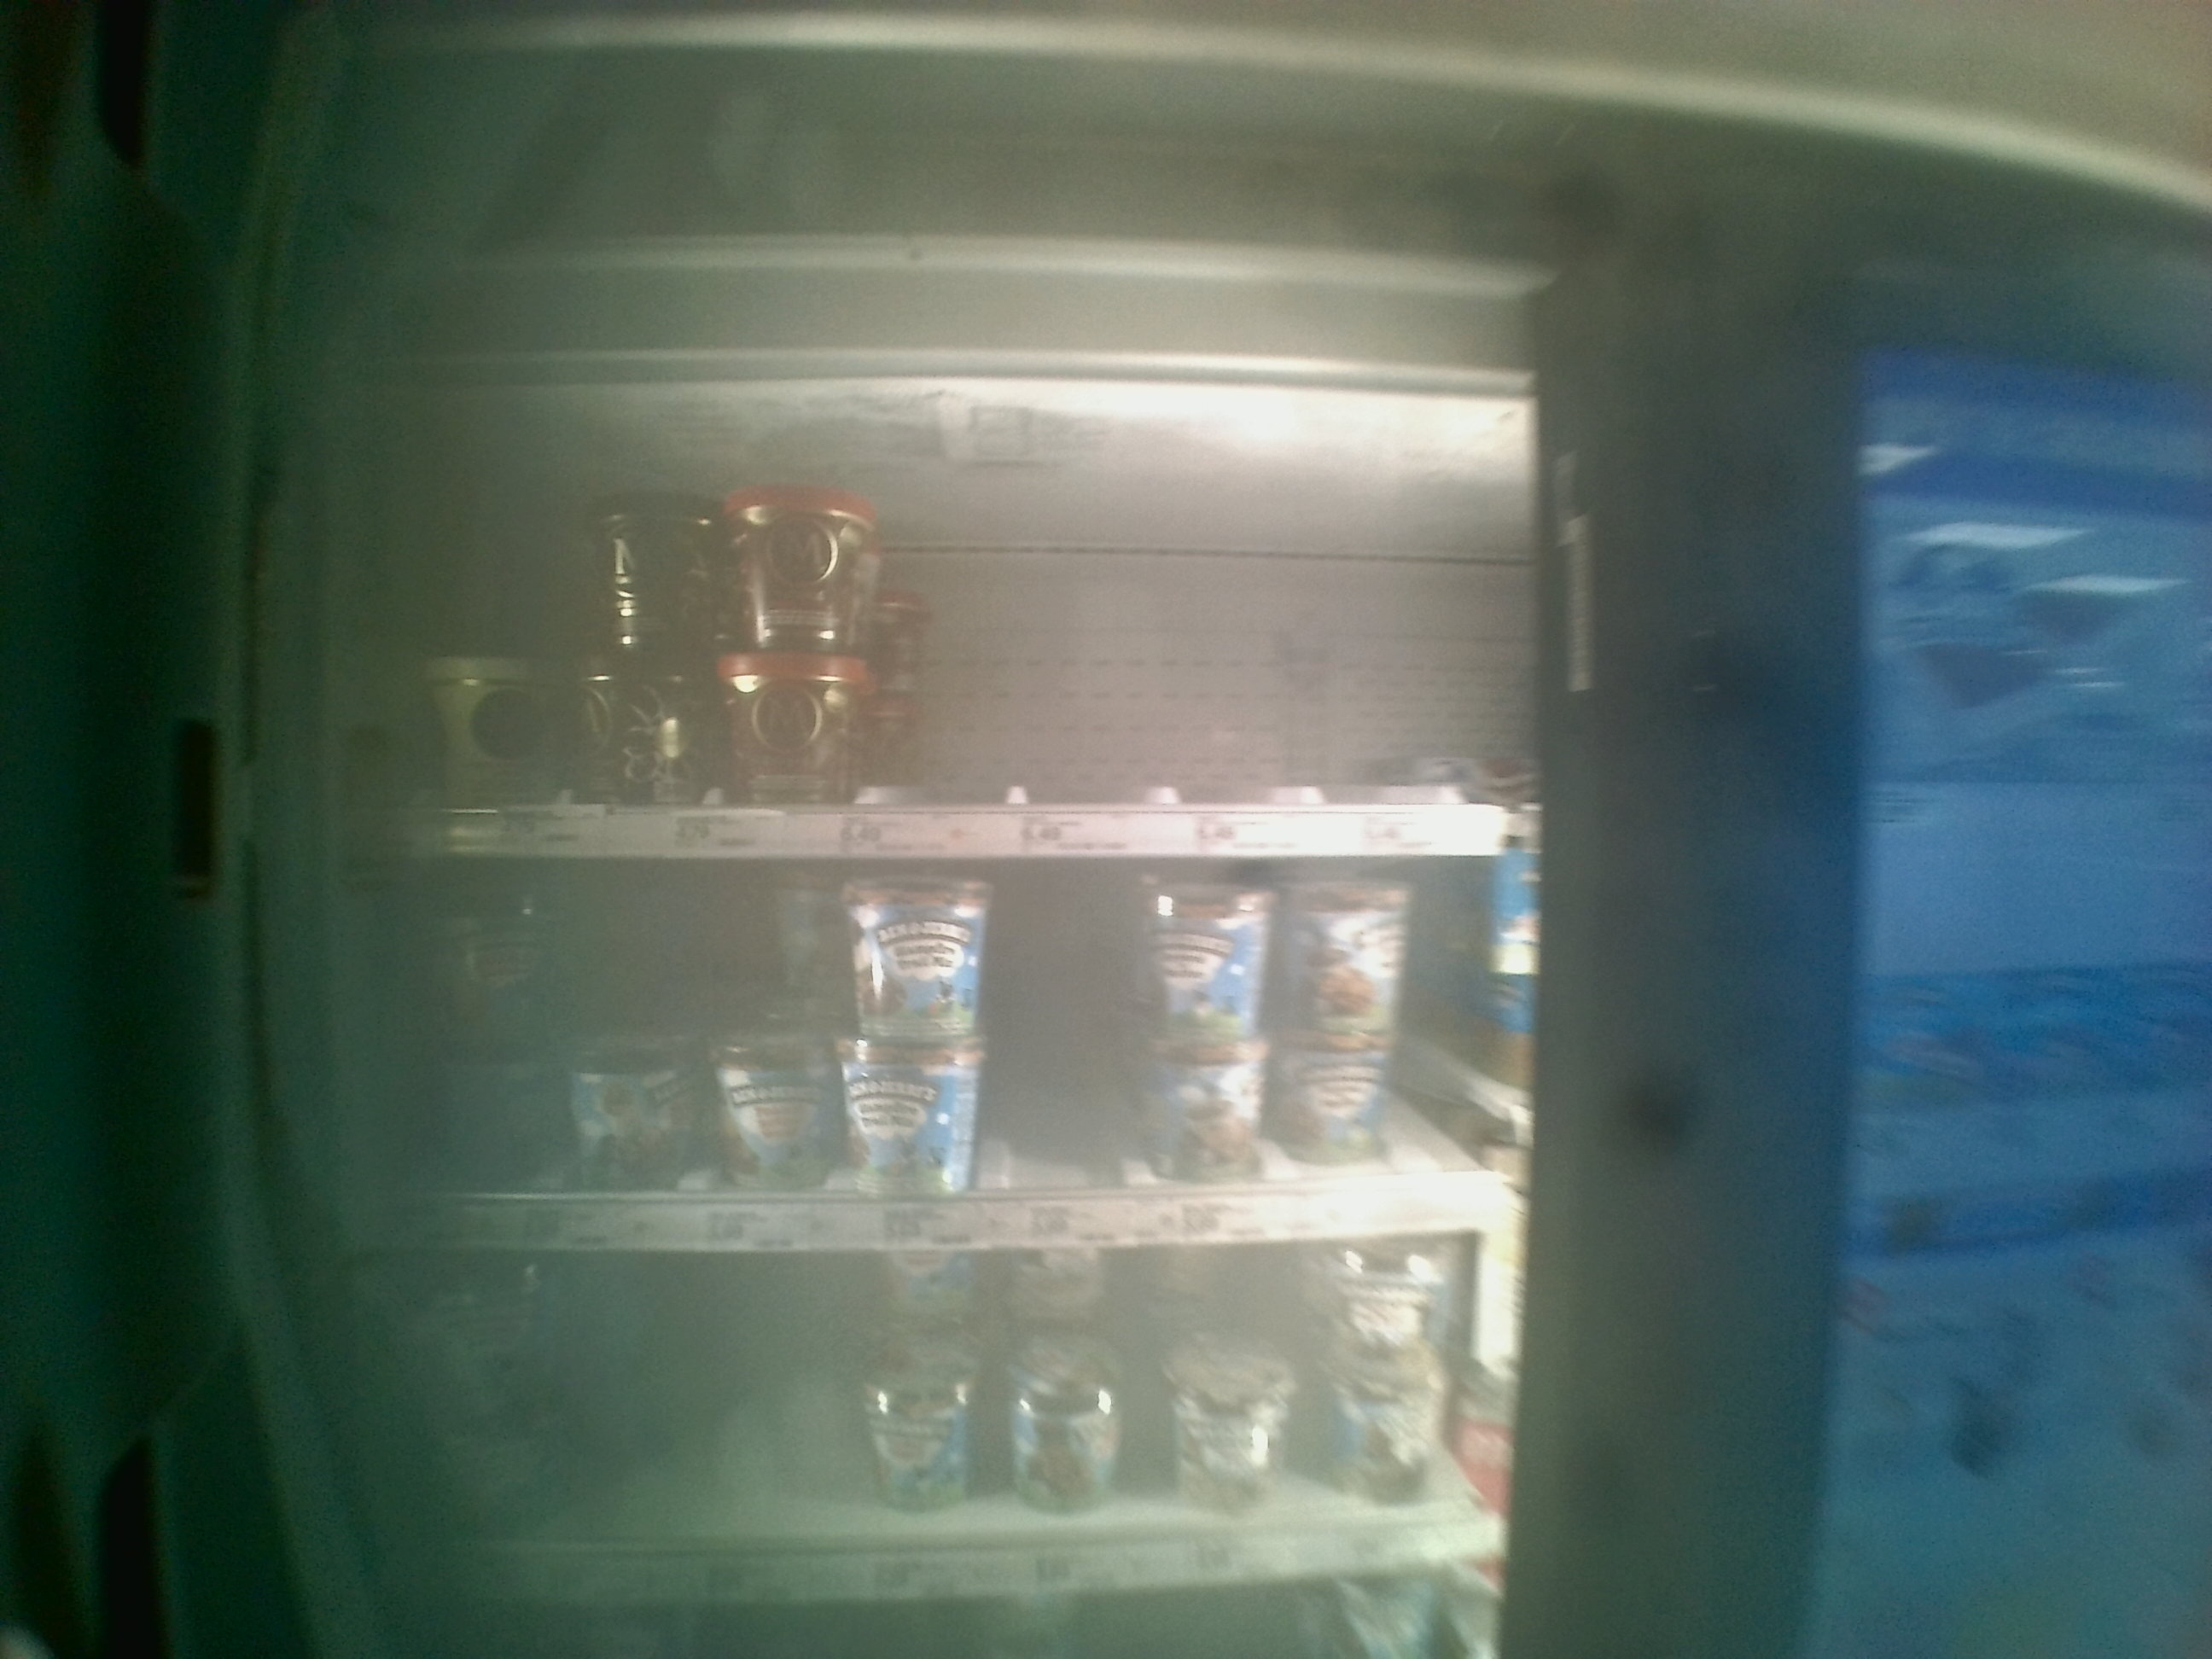shelf: (350, 457, 1514, 856), (338, 868, 1487, 1248)
